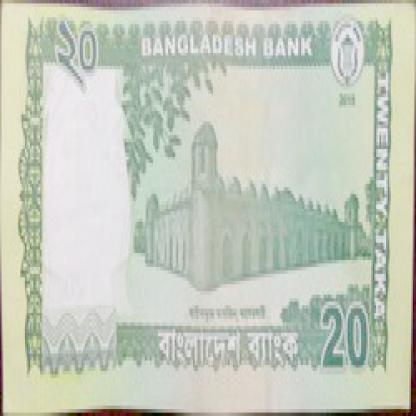Twenty: (318, 295, 381, 371), (50, 21, 103, 107)
